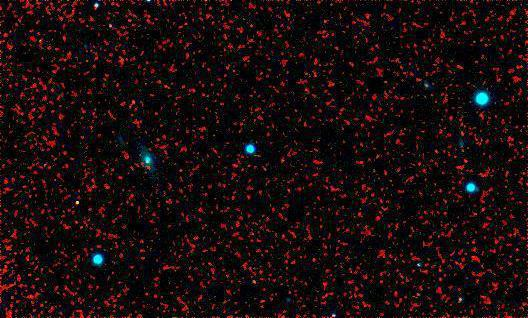star: (65, 185, 95, 215)
